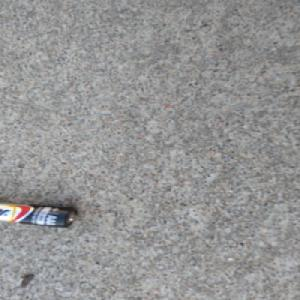Battery: (0, 201, 78, 227)
